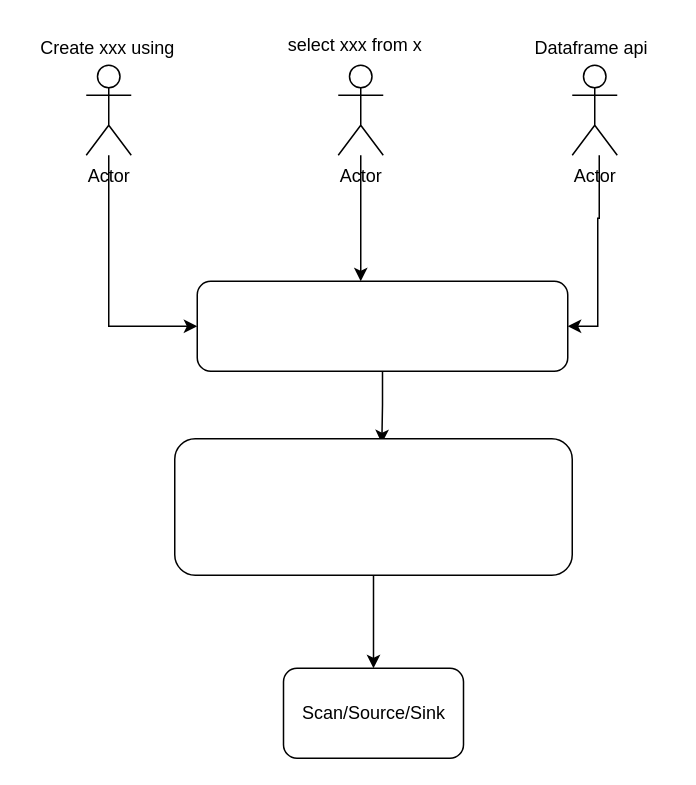
The diagram is 696 pixels wide and 785 high, and some of its shapes have lost their labels. The centre of each missing label's shape, as x and y in pixels:
"CreateRelation/StreamSource/StreamSink" belongs at pixel 372 506.
"LookupDataSource(DatasourceRegister)" belongs at pixel 382 325.
